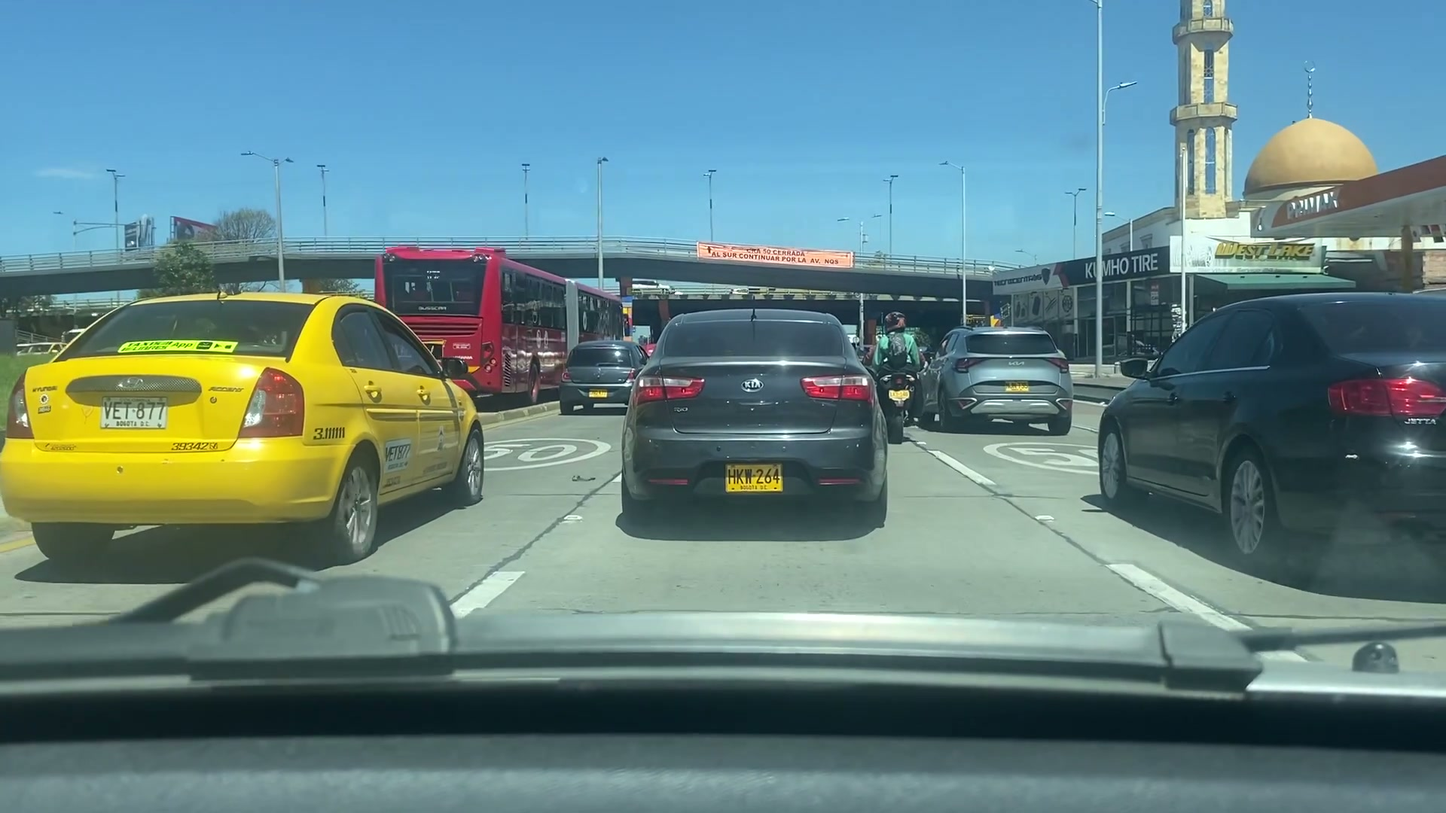bus: (377, 246, 630, 400)
car: (0, 289, 488, 562), (1098, 293, 1446, 576), (627, 309, 885, 526), (916, 327, 1075, 429), (558, 341, 648, 414)
motorcycle: (881, 369, 916, 440)
person: (871, 312, 921, 430)
